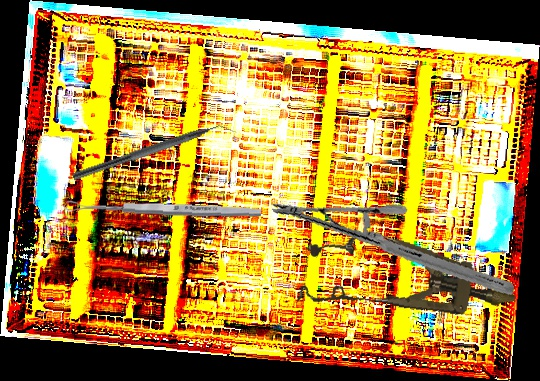Chopper: (71, 115, 238, 192)
Needle Holder: (271, 162, 515, 334)
Speculum: (296, 221, 523, 340)
Surgical Spoon: (65, 199, 262, 219)
